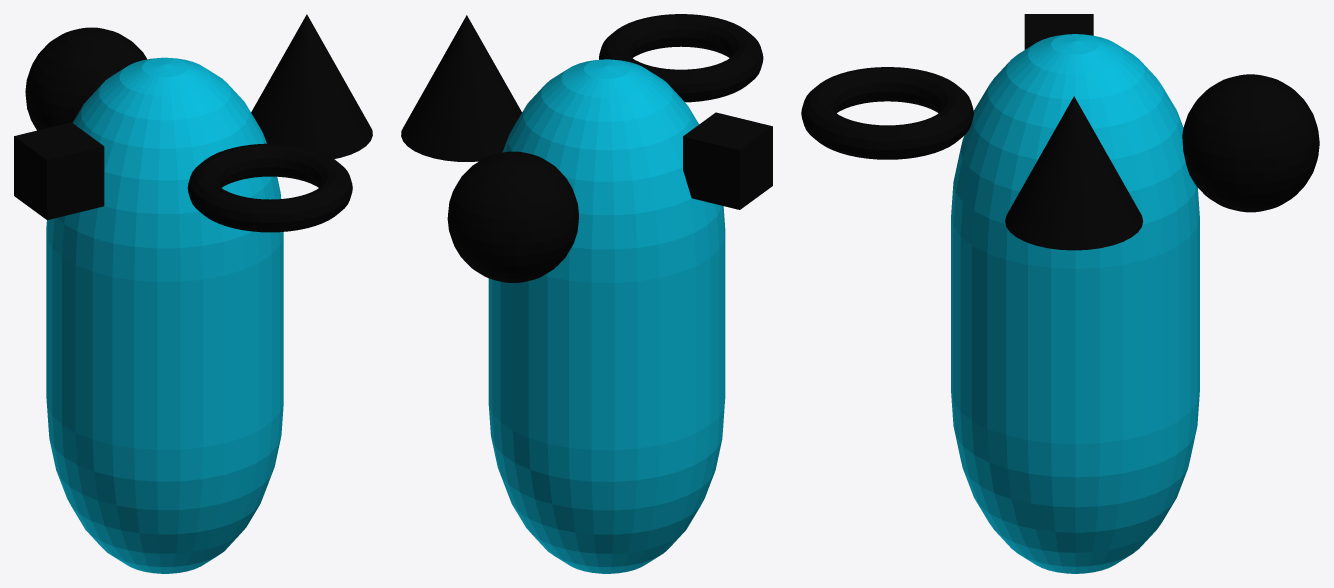
File: capsule_direction.glb
3 views of the same model, side by side, from view 1: azimuth 30°, elevation 25°; view 2: azimuth 150°, elevation 25°; view 3: azimuth 270°, elevation 25° (orthographic). The views are drawn at different scales.
Visible parts, largest first — view 1: Sphere; view 2: Sphere; view 3: Sphere.
Boxes of the visible parts, <box> form: Sphere: <box>14,14,372,573</box>; Sphere: <box>401,14,772,573</box>; Sphere: <box>801,14,1319,573</box>.
Bounding box in the file's own units: 1.19 × 1.73 × 1.5.
